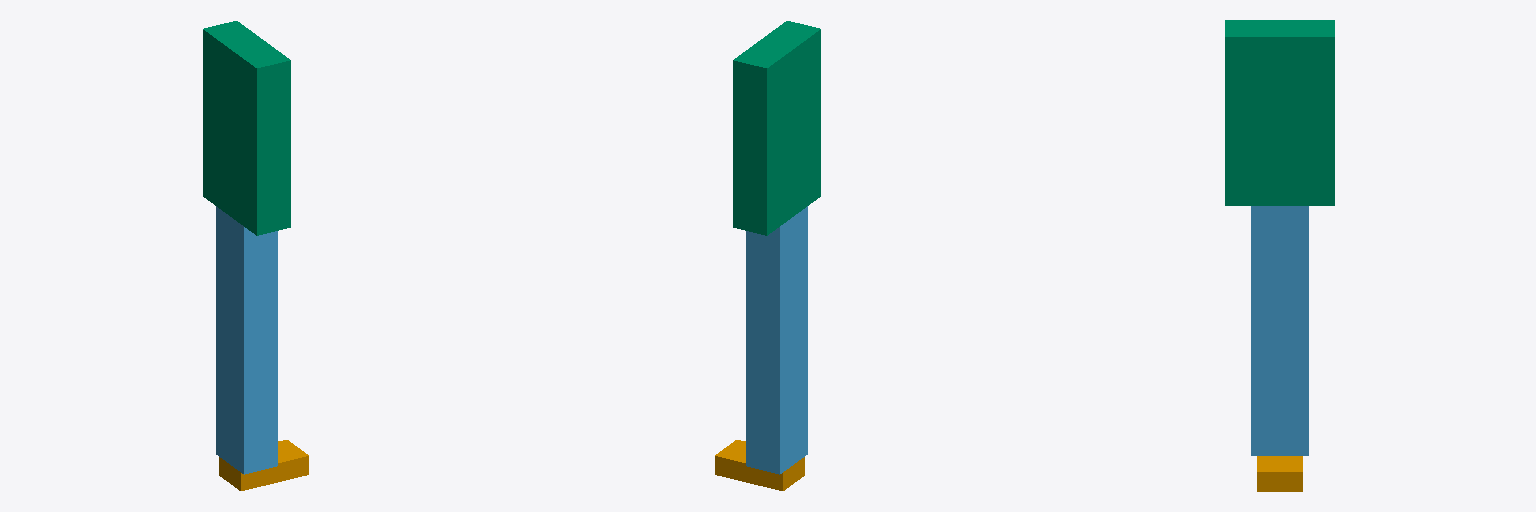
robot.urdf — threeLinkHuman:
<robot name="threeLinkHuman">
    <link name="foot">
        <inertial>
            <mass value="3.0929"/>
            <origin xyz="0 0 0.030632" rpy="0 0 0" />
            <inertia ixx="0.0053543" iyy="0.014713" izz="0.018132" ixy="0" ixz="0" iyz="0"/>
        </inertial>

        <visual>
			<origin xyz="0 0 0.030632" rpy="0 0 0" />
            <geometry>
                <box size="0.23093 0.13046 0.061264"/>
            </geometry>
        </visual>

        <collision>
			<origin xyz="0 0 0.030632" rpy="0 0 0" />
            <geometry>
                <box size="0.23093 0.13046 0.061264"/>
            </geometry>
        </collision>
    </link>
    
    <link name="leg">
        <inertial>
            <mass value="25.5388"/>
            <origin xyz="0 0 0.39941" rpy="0 0 0" />
            <inertia ixx="1.4162" iyy="1.3864" izz="0.086483" ixy="0" ixz="0" iyz="0"/>
        </inertial>

        <visual>
            <origin xyz="0 0 0.39941" rpy="0 0 0" />
            <geometry>
                <box size="0.11547 0.16524 0.79882"/>
            </geometry>
        </visual>

        <collision>
            <origin xyz="0 0 0.39941" rpy="0 0 0" />
            <geometry>
                <box size="0.11547 0.16524 0.79882"/>
            </geometry>
        </collision>
    </link>
    
    <link name="torso">
        <inertial>
            <mass value="33.0115"/>
            <origin xyz="0 0 0.2693" rpy="0 0 0" />
            <inertia ixx="1.0741" iyy="0.83467" izz="0.31275" ixy="0" ixz="0" iyz="0"/>
        </inertial>

        <visual>
            <origin xyz="0 0 0.2693" rpy="0 0 0" />
            <geometry>
                <box size="0.11547 0.31679 0.53859"/>
            </geometry>
        </visual>

        <collision>
            <origin xyz="0 0 0.2693" rpy="0 0 0" />
            <geometry>
                <box size="0.11547 0.31679 0.53859"/>
            </geometry>
        </collision>
    </link>
        
    <joint name="ankle" type="revolute">
        <origin xyz="-0.057733 0 0.061264" rpy="0 0 0"/>
        <parent link="foot"/>
        <child link="leg"/>
        <dynamics damping="0.1" friction="0.0"/>
        <limit effort="30" velocity="1.0" lower="-10.0" upper="10.0" />
        <axis xyz="0 1 0" />
    </joint>
    
    <joint name="hip" type="revolute">
        <origin xyz="0 0 0.79882" rpy="0 0 0"/>
        <parent link="leg"/>
        <child link="torso"/>
        <dynamics damping="0.1" friction="0.0"/>
        <limit effort="30" velocity="1.0" lower="-10.0" upper="10.0" />
        <axis xyz="0 1 0" />
    </joint>

</robot>

--- Render facts (derived) ---
Views: 3 orthographic renders of the robot side by side, from view 1: azimuth 30°, elevation 25°; view 2: azimuth 150°, elevation 25°; view 3: azimuth 270°, elevation 25°.
Model threeLinkHuman with 3 links and 2 joints (2 revolute), rooted at foot, posed all joints at 0.
Links seen in each view (by area): view 1: torso, leg, foot; view 2: torso, leg, foot; view 3: torso, leg, foot.
Link boxes in pixels (left/top/right/bottom): torso: left=203, top=21, right=290, bottom=235; leg: left=216, top=206, right=277, bottom=474; foot: left=219, top=440, right=308, bottom=490; torso: left=733, top=21, right=820, bottom=235; leg: left=746, top=206, right=807, bottom=474; foot: left=715, top=440, right=804, bottom=490; torso: left=1225, top=20, right=1334, bottom=205; leg: left=1251, top=206, right=1308, bottom=455; foot: left=1257, top=456, right=1302, bottom=491.
Size in the robot's own frame: 0.2309 by 0.3168 by 1.4 metres.
Geometry: primitives only (box / cylinder / sphere), no mesh files.
